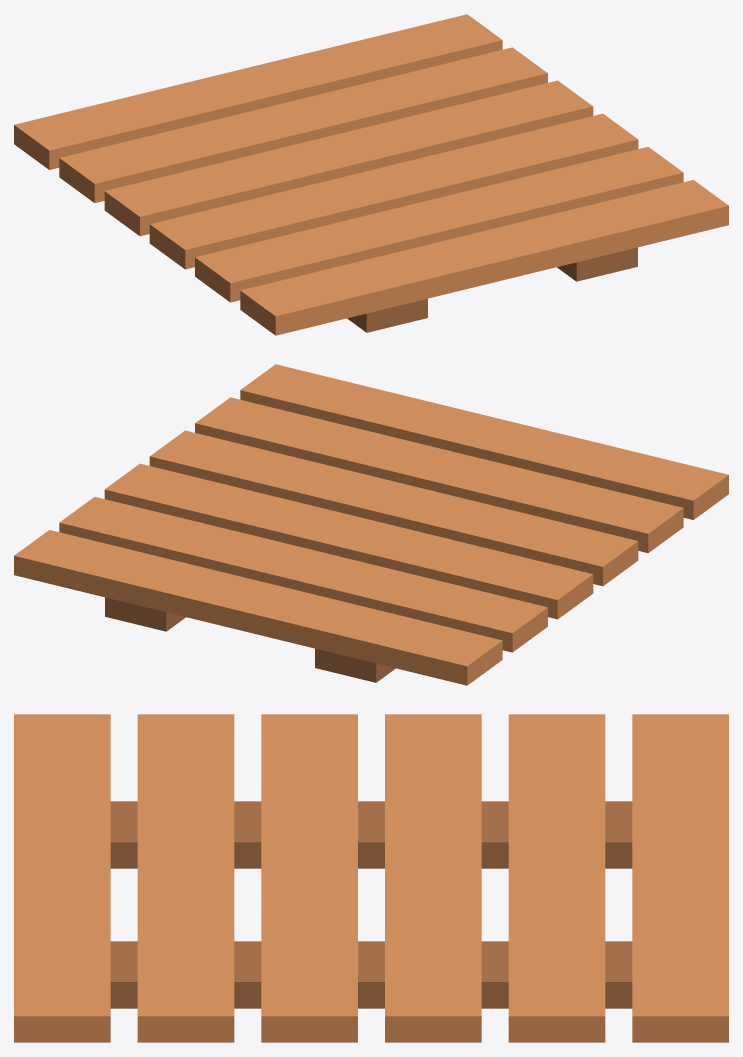
The model's file is floor.dae.
The picture shows the model from 3 angles, top to bottom: view 1: azimuth 30°, elevation 25°; view 2: azimuth 150°, elevation 25°; view 3: azimuth 270°, elevation 25°; orthographic projection. The views are drawn at different scales.
Visible parts, largest first — view 1: floor; view 2: floor; view 3: floor.
Boxes of the visible parts, x1=… form: floor: x1=14, y1=14, x2=728, y2=335; floor: x1=14, y1=364, x2=728, y2=685; floor: x1=14, y1=714, x2=728, y2=1042.
Bounding box in the file's own units: 1.96 × 0.16 × 1.96.
